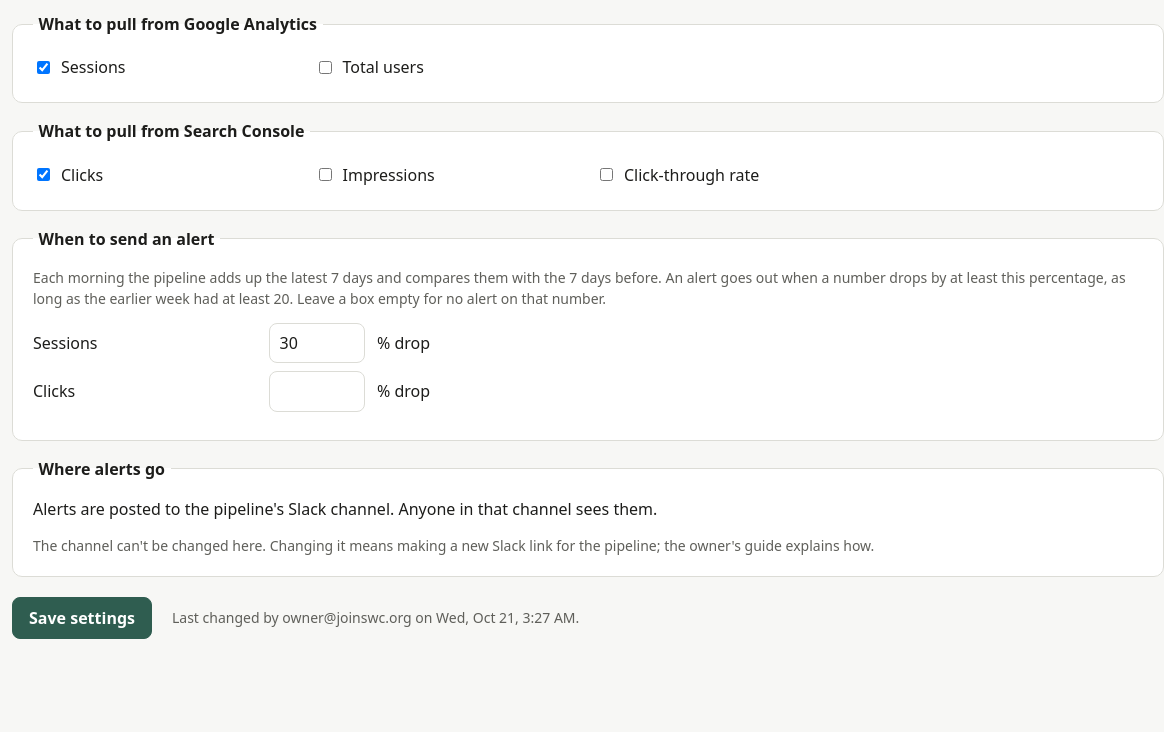
it: Settings page › saves changes with the version it loaded
Expected: the checkbox labelled "Sessions" is shown, [37,61,50,74]
Click the checkbox labelled "Impressions" at (325, 175), box [318,168,332,181]
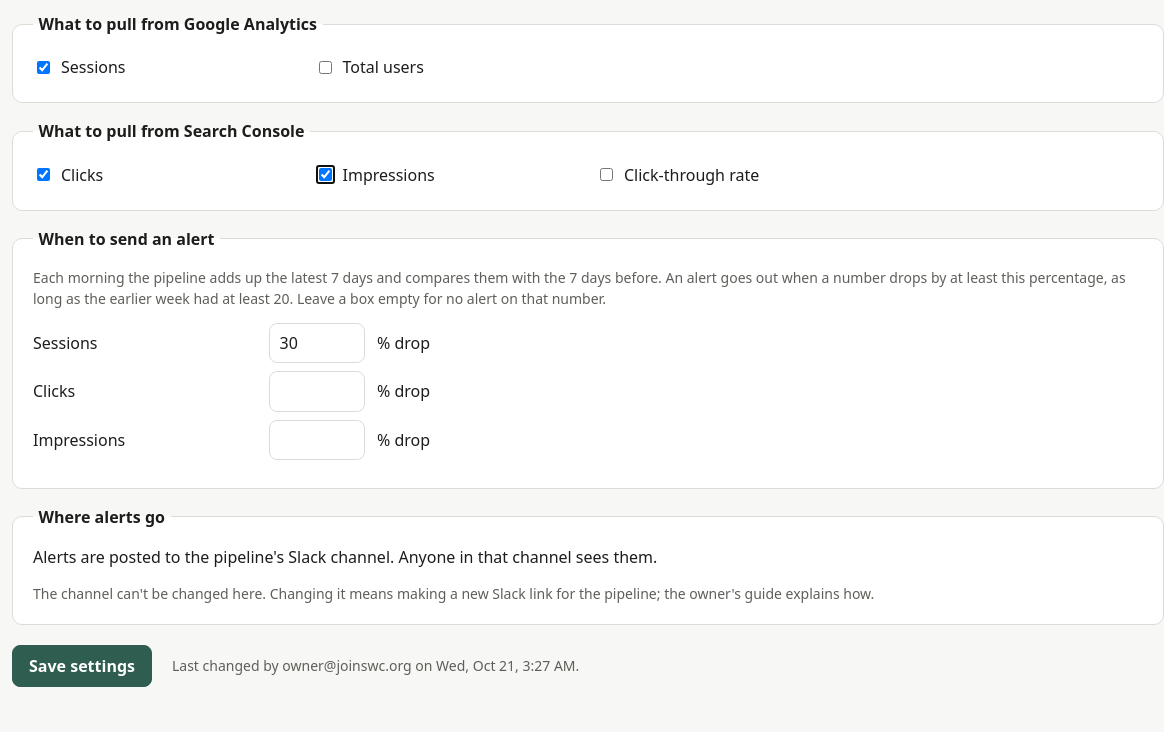
Type "40" into the number field named "Impressions alert threshold (%)" at (317, 440), box [269,420,365,460]
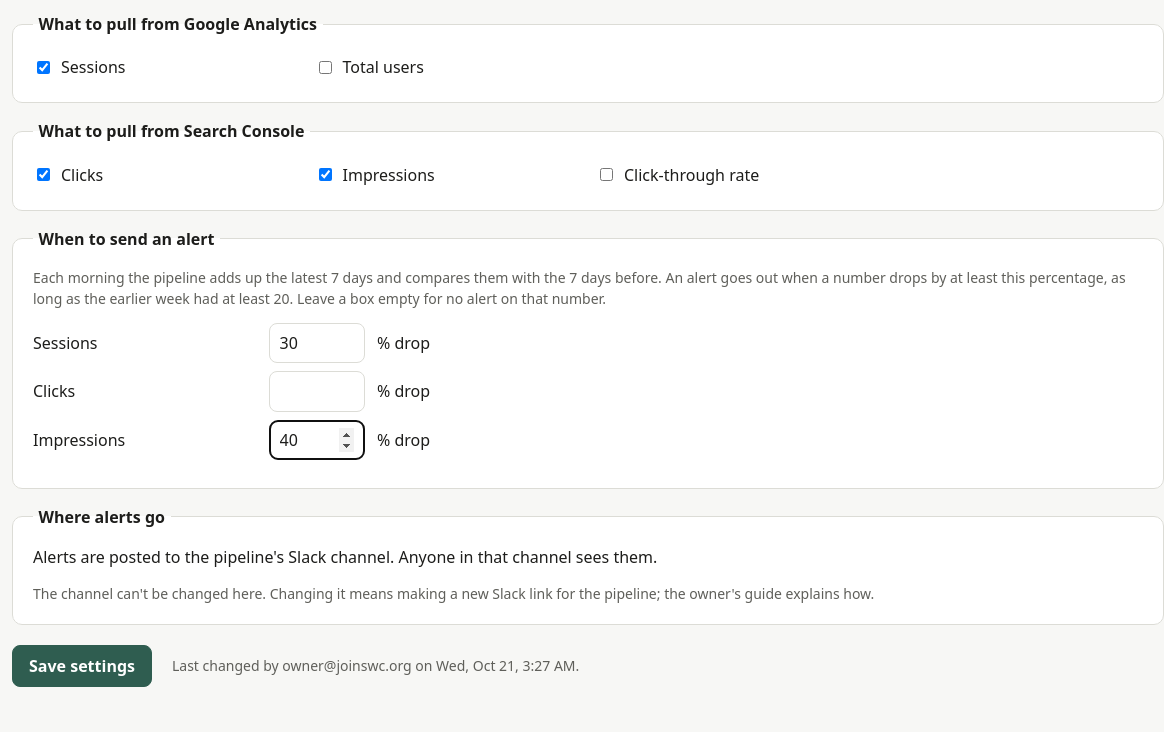
Click the button "Save settings" at (82, 666), box [12,645,152,687]
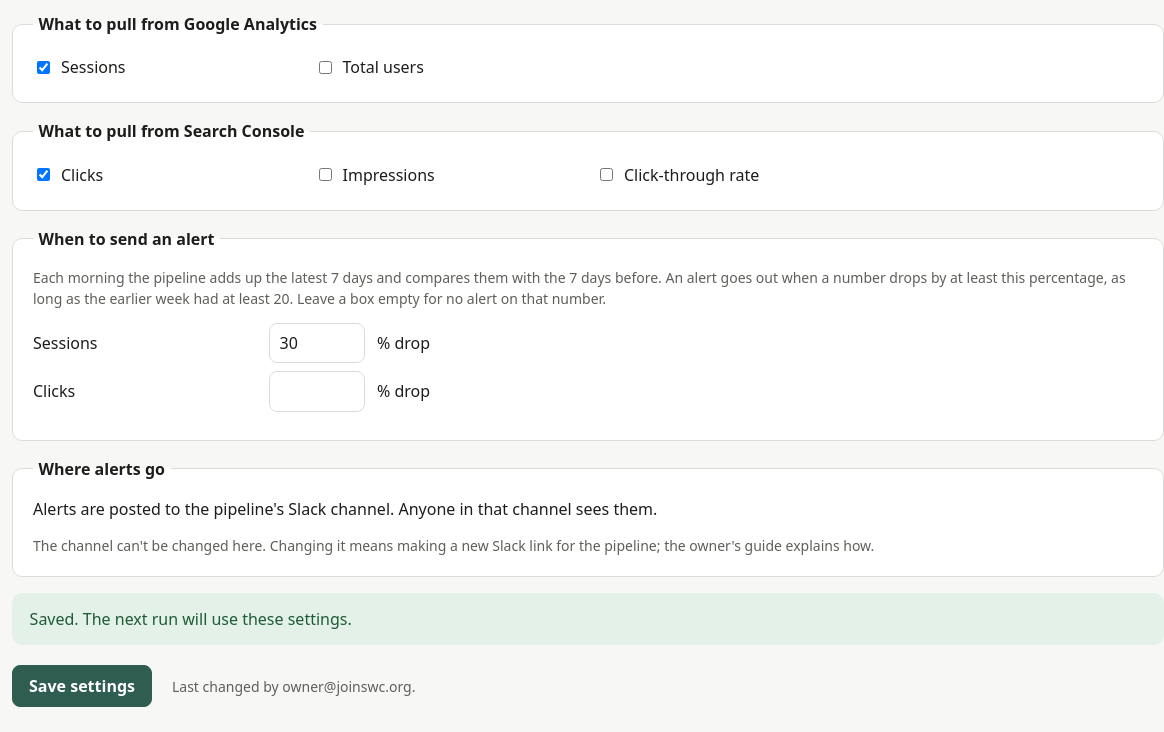
Expected: the message shows "Saved.", [30,608,352,630]
